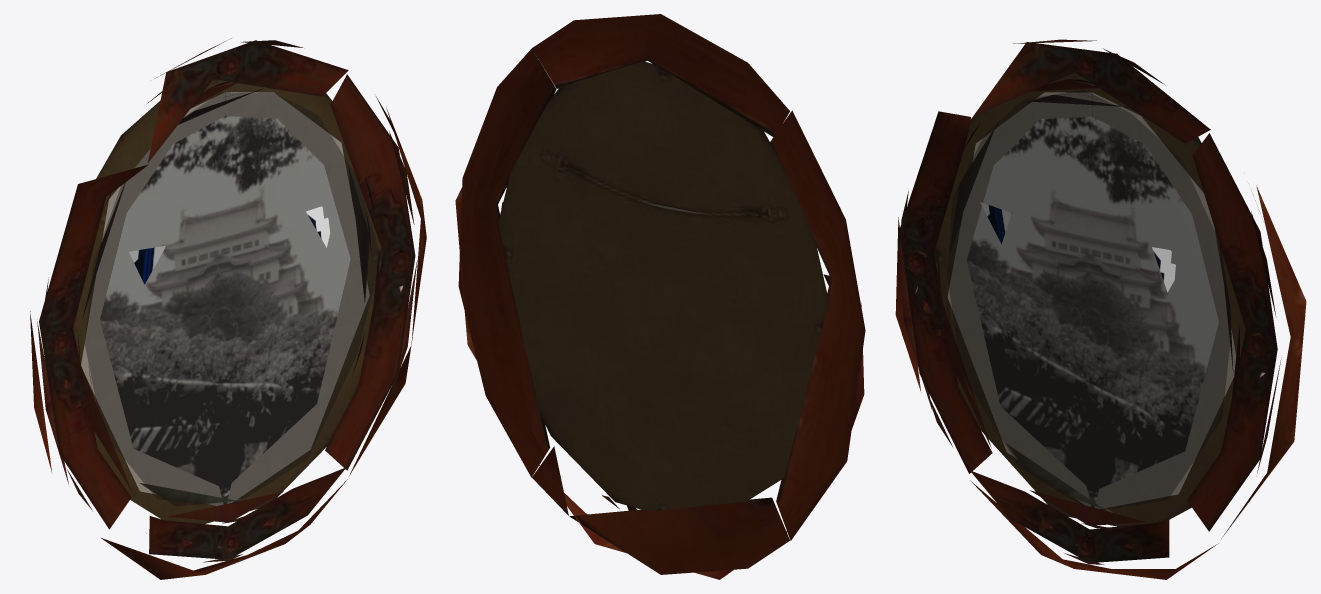
Rendered from katz_frame_a.glb.
The picture shows the model from 3 angles, left to right: view 1: azimuth 30°, elevation 25°; view 2: azimuth 150°, elevation 25°; view 3: azimuth 330°, elevation 25°; orthographic projection.
Visible parts, largest first — view 1: hanging_picture_frame_03, stk_logo03.png; view 2: hanging_picture_frame_03; view 3: hanging_picture_frame_03, stk_logo03.png.
Part boxes in pixels (x1,y1,x2,y2): hanging_picture_frame_03: [30, 38, 426, 579]; stk_logo03.png: [129, 206, 330, 284]; hanging_picture_frame_03: [455, 14, 865, 579]; hanging_picture_frame_03: [895, 39, 1306, 579]; stk_logo03.png: [980, 202, 1175, 292].
Size of the model in its own units: 0.3815 by 0.4995 by 0.0503.
Materials: 4 (3 with a texture image).
